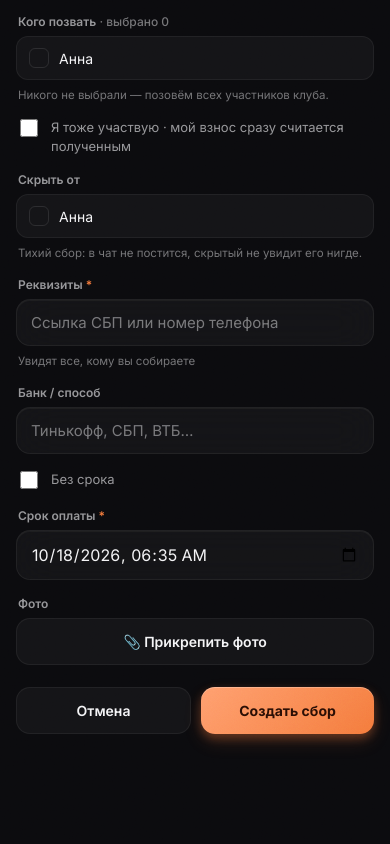
CreateSkladchinaPage — одна форма на три вида › «По желанию» показывает «Скрыть от» и чекбокс «Без срока» — по умолчанию снят, срок обязателен
The width and height of the screenshot is (390, 844).
(page scrolled)
Expected: the text "Скрыть от" is shown, [18,172,80,187]
Expected: the text "Срок оплаты" is shown, [18,508,96,523]
Note: Отметил «Без срока» — поле срока прячется.
Click the checkbox labelled "Без срока" at (29, 480), box [20,471,38,489]
(page scrolled)
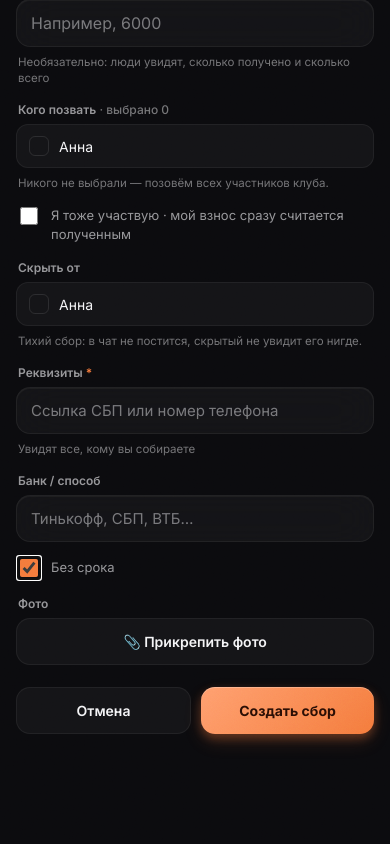
Expected: the text "Срок оплаты" is gone
